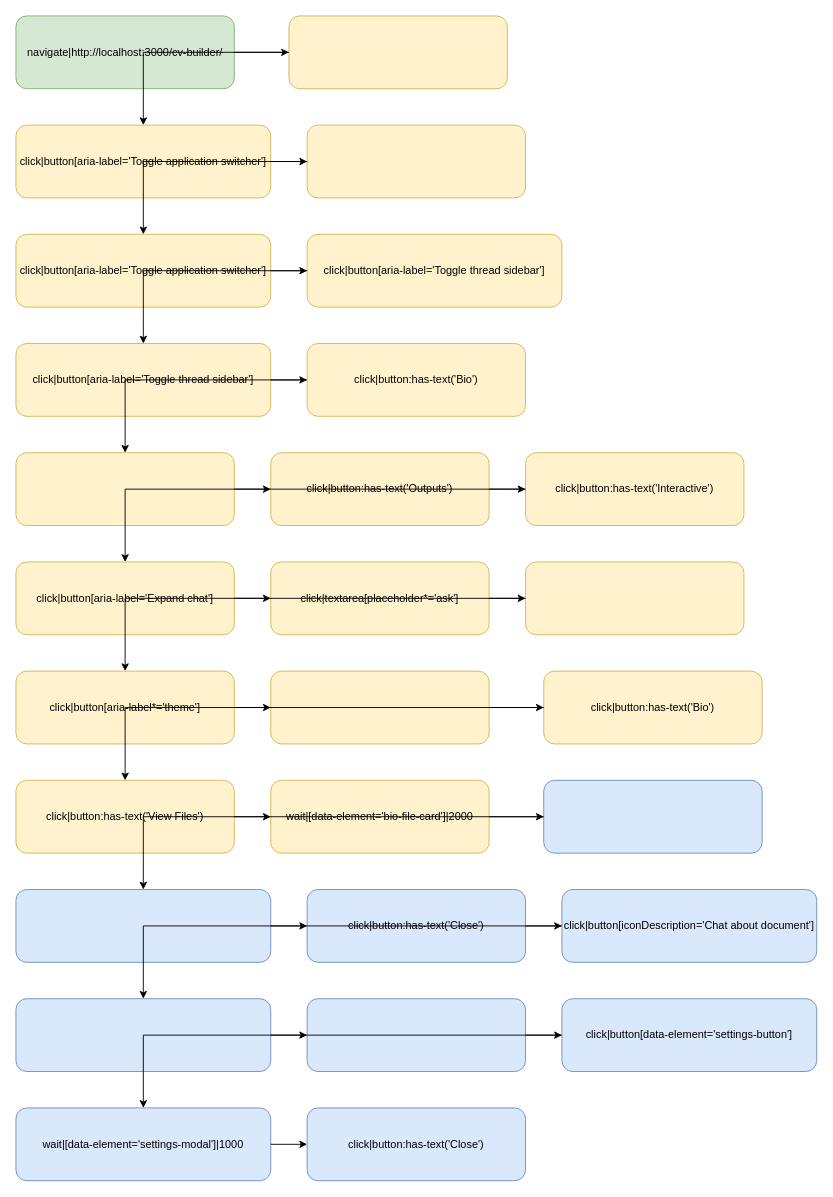
Some shapes in this 833 by 1197 pixel diagram are drawn without their labels. Here are the shapes that lost their labels. From the top down, the box of each, then its label:
(288, 15, 507, 89): wait|[data-testid='dashboard']|5000
(306, 124, 526, 198): wait|.app-switcher.expanded|1000
(15, 452, 234, 526): click|button:has-text('Jobs')
(525, 561, 744, 635): click|button[aria-label='Collapse chat']
(270, 670, 489, 744): wait|[data-carbon-theme]|500
(543, 779, 762, 853): click|button[iconDescription='Preview']
(15, 889, 271, 962): wait|[data-element='document-preview-modal']|1000
(15, 998, 271, 1072): wait|[data-element='document-chat-modal']|1000
(306, 998, 526, 1072): click|button[aria-label='Close']
